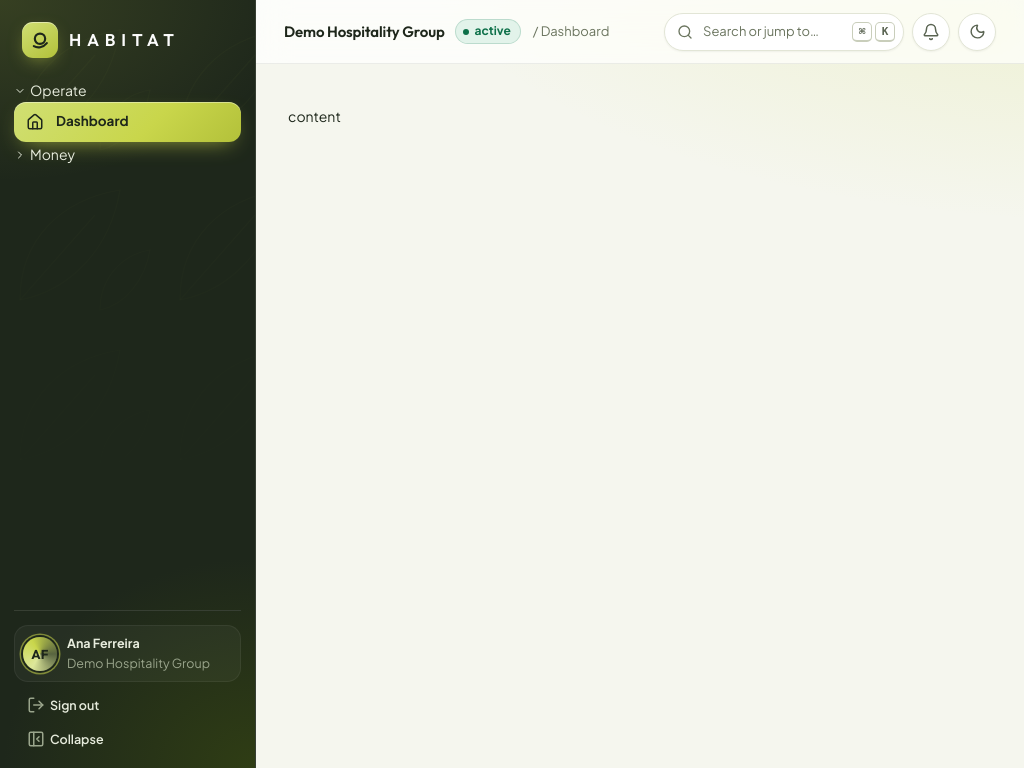
AppLayout navigation › needs only one of the permissions a link lists
This screenshot has width=1024, height=768.
Expected: the text "Demo Hospitality Group" next to "active" is shown, [284,22,445,41]
What coordinates should you click on to do the following:
click the button "Money"
I would click on:
 (128, 155)
Its box is [14,144,241,165].
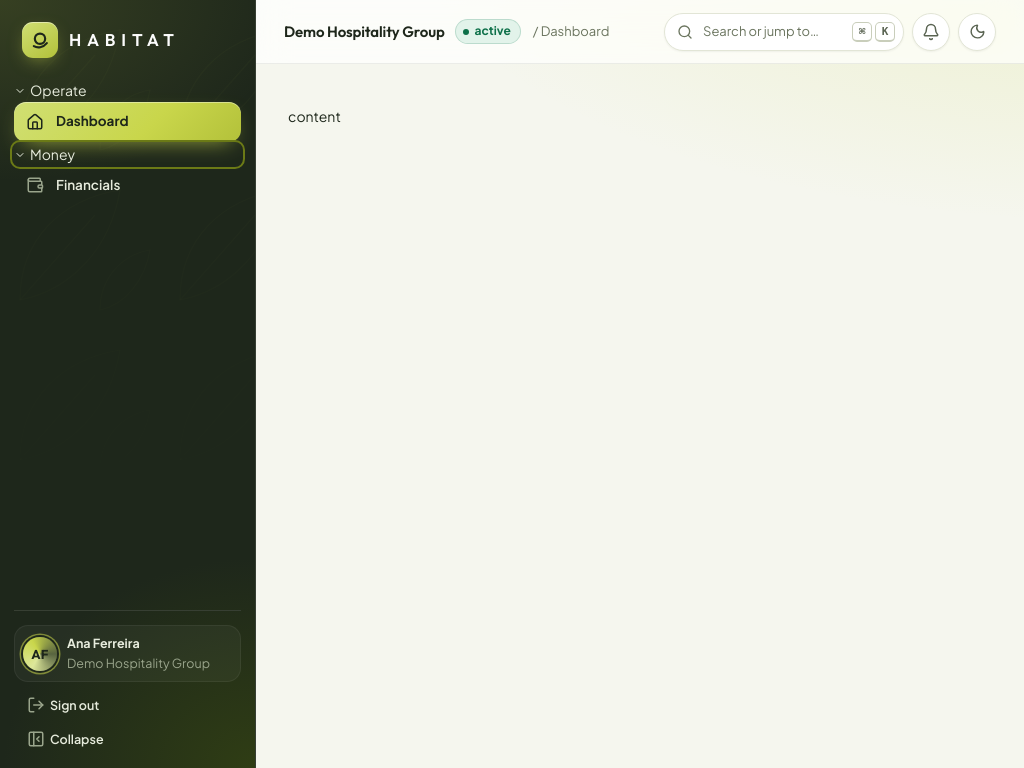
Expected: the link "Financials" is shown, [26,176,120,194]
